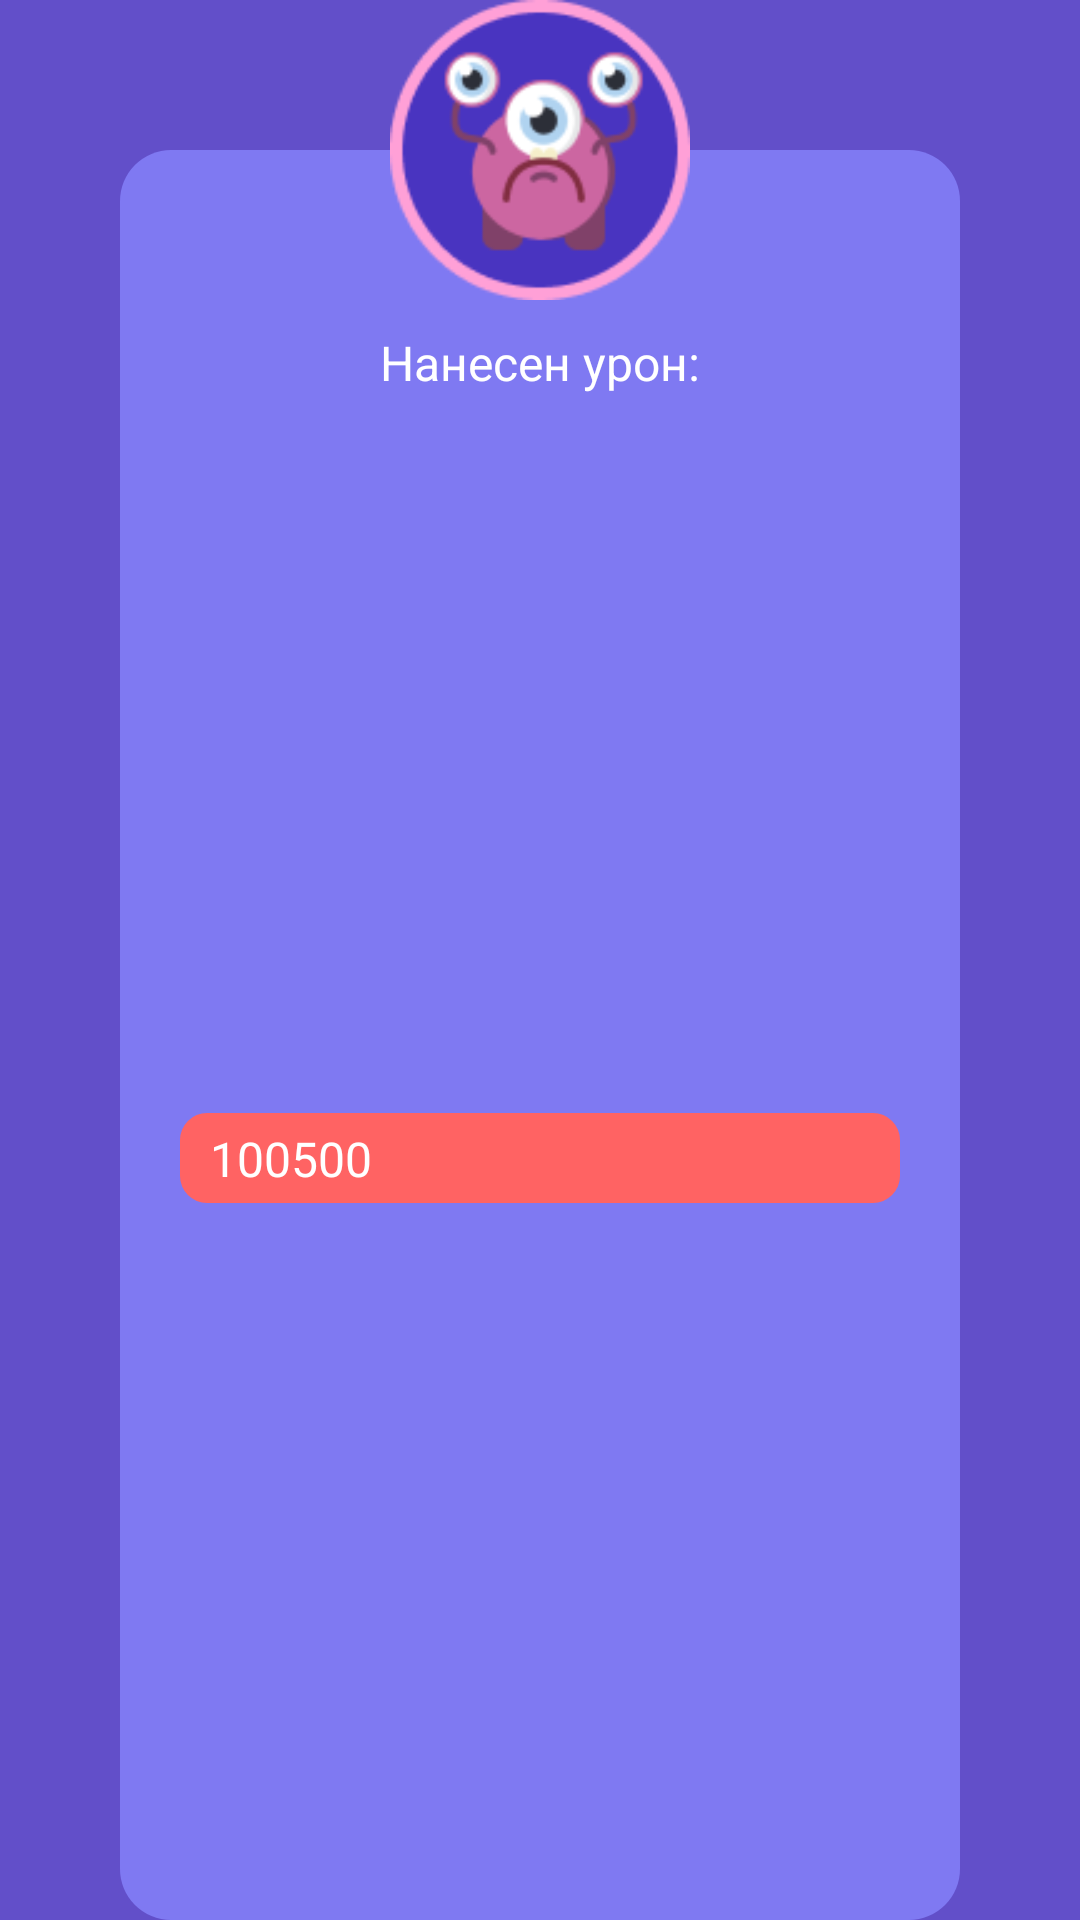

Screen size 1080px x 1920px. Icon name, then its center in pixels as point (x, y):
pic enemy: point (540, 150)
